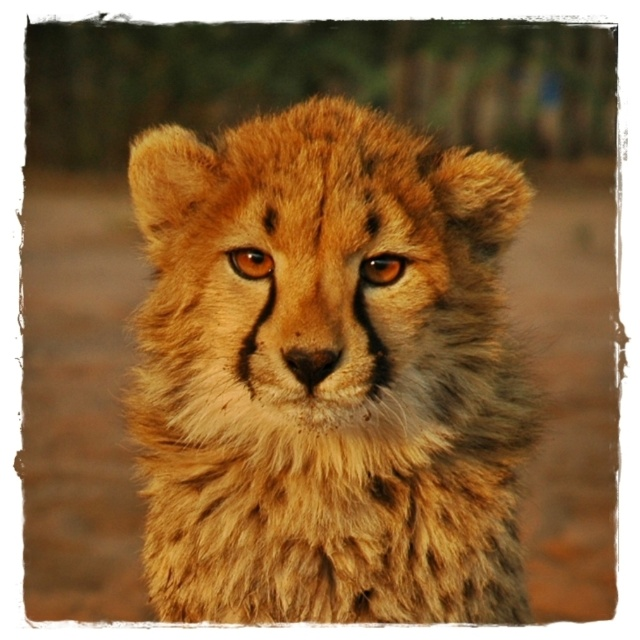Cheetah: (108, 86, 574, 624)
